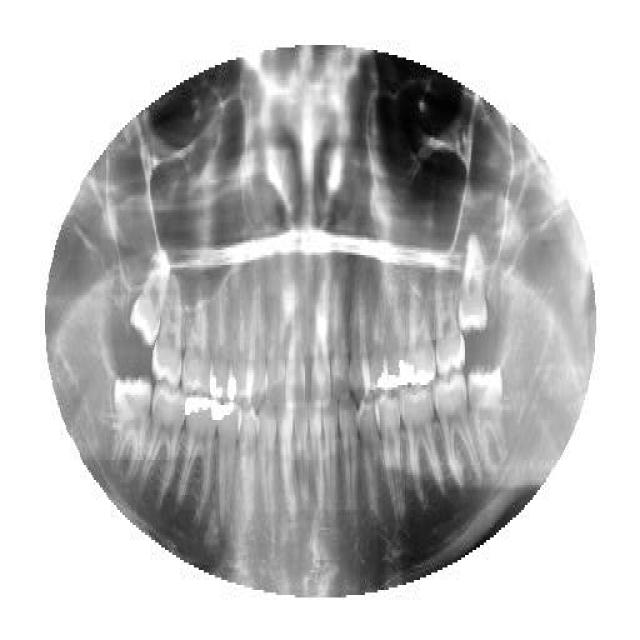Fillings: (178, 390, 216, 520), (408, 290, 438, 388), (210, 292, 235, 400), (376, 280, 400, 392), (216, 402, 238, 522), (393, 280, 412, 388)
Impacted Tooth: (456, 230, 490, 338)
